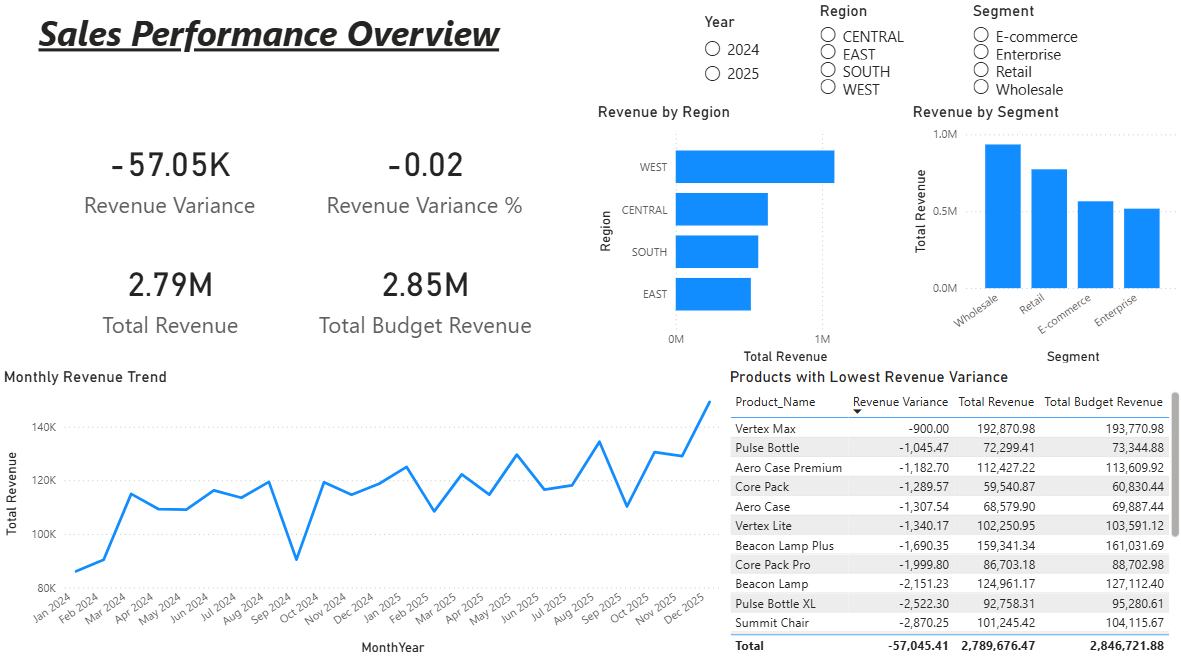

This screenshot's page, from the dashboard's own definition file:
{"tool":"powerbi","page":{"name":"Overview","canvas":[1280,720],"ordinal":0},"visuals":[{"type":"card","fields":{"Values":["FactSalesKPI.Total Revenue"]},"box":[66.4,263.9,236.4,129.5],"z":0},{"type":"card","fields":{"Values":["FactSalesKPI.Total Budget Revenue"]},"box":[319,263.9,281.7,129.5],"z":1000},{"type":"card","fields":{"Values":["FactSalesKPI.Revenue Variance"]},"box":[68,134.4,231.5,129.5],"z":2000},{"type":"card","fields":{"Values":["FactSalesKPI.Revenue Variance %"]},"box":[338.4,134.4,241.3,129.5],"z":3000},{"type":"lineChart","title":"Monthly Revenue Trend","fields":{"Category":["DimDate.MonthYear"],"Y":["FactSalesKPI.Total Revenue"]},"box":[0,406.4,783.7,314.1],"z":4000},{"type":"clusteredBarChart","title":"Revenue by Region","fields":{"Y":["FactSalesKPI.Total Revenue"],"Category":["FactSalesKPI.Region"]},"box":[641.2,119.8,340,286.6],"z":5000},{"type":"clusteredColumnChart","title":"Revenue by Segment","fields":{"Y":["FactSalesKPI.Total Revenue"],"Category":["FactSalesKPI.Segment"]},"box":[981.3,119.8,297.9,286.6],"z":6000},{"type":"listSlicer","fields":{"Values":["DimDate.Year"]},"box":[756.5,22.7,100.4,85.8],"z":7000},{"type":"listSlicer","fields":{"Values":["FactSalesKPI.Region"]},"box":[881.1,11.3,123.1,108.5],"z":8000},{"type":"listSlicer","fields":{"Values":["FactSalesKPI.Segment"]},"box":[1046.3,11.3,132.8,108.5],"z":9000},{"type":"tableEx","title":"Products with Lowest Revenue Variance","fields":{"Values":["FactSalesKPI.Product_Name","FactSalesKPI.Revenue Variance","FactSalesKPI.Total Revenue","FactSalesKPI.Total Budget Revenue"]},"box":[783.7,406.4,495.5,314.1],"z":10000},{"type":"textbox","box":[37.2,14.6,542.4,68],"z":11000}]}

Visuals, with their boxes in screenshot pixels (x1, y1, x2, y2), scaled from the page's 1280x720 canvas onto the 1181x657 screenshot:
card - FactSalesKPI.Total Revenue: Rect(61, 241, 279, 359)
card - FactSalesKPI.Total Budget Revenue: Rect(294, 241, 554, 359)
card - FactSalesKPI.Revenue Variance: Rect(63, 123, 276, 241)
card - FactSalesKPI.Revenue Variance %: Rect(312, 123, 535, 241)
"Monthly Revenue Trend" lineChart: Rect(0, 371, 723, 656)
"Revenue by Region" clusteredBarChart: Rect(592, 109, 905, 371)
"Revenue by Segment" clusteredColumnChart: Rect(905, 109, 1180, 371)
listSlicer - DimDate.Year: Rect(698, 21, 791, 99)
listSlicer - FactSalesKPI.Region: Rect(813, 10, 927, 109)
listSlicer - FactSalesKPI.Segment: Rect(965, 10, 1088, 109)
"Products with Lowest Revenue Variance" tableEx: Rect(723, 371, 1180, 656)
textbox: Rect(34, 13, 535, 75)
